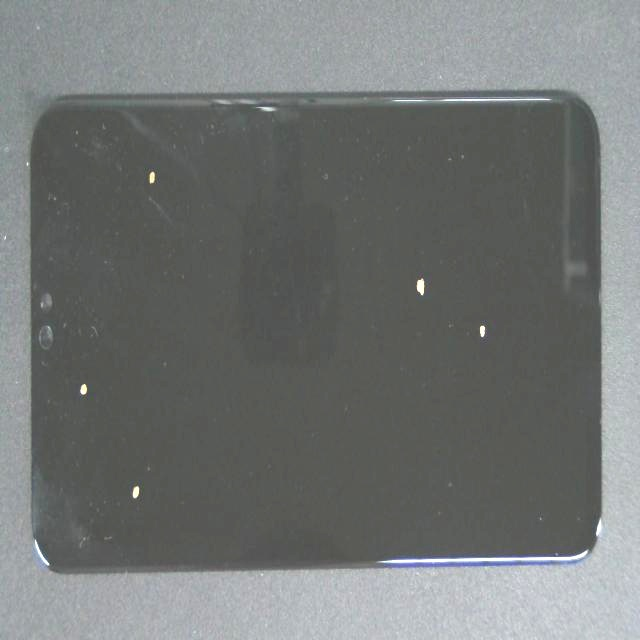stain: (168, 178, 621, 466), (258, 169, 640, 479), (76, 214, 197, 640), (39, 159, 110, 572), (77, 59, 207, 257)
